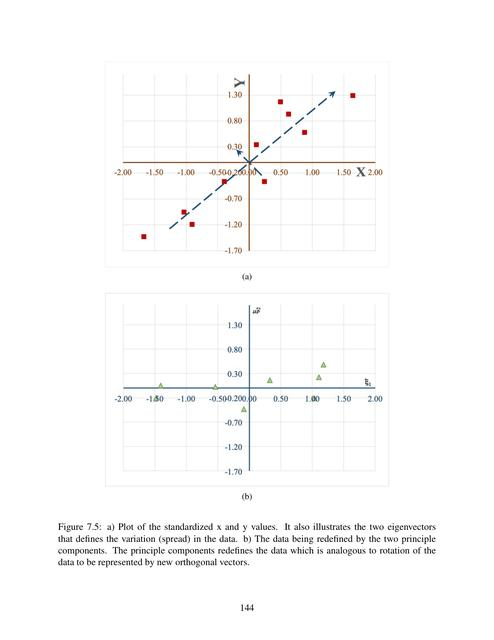box: (113, 63, 391, 269), (104, 294, 389, 488)
